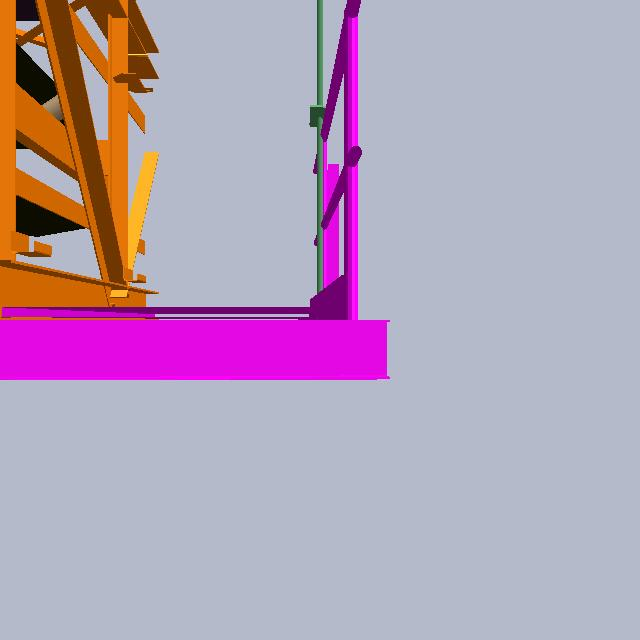Poste: (308, 1, 335, 345)
Soporte: (312, 150, 352, 333)
